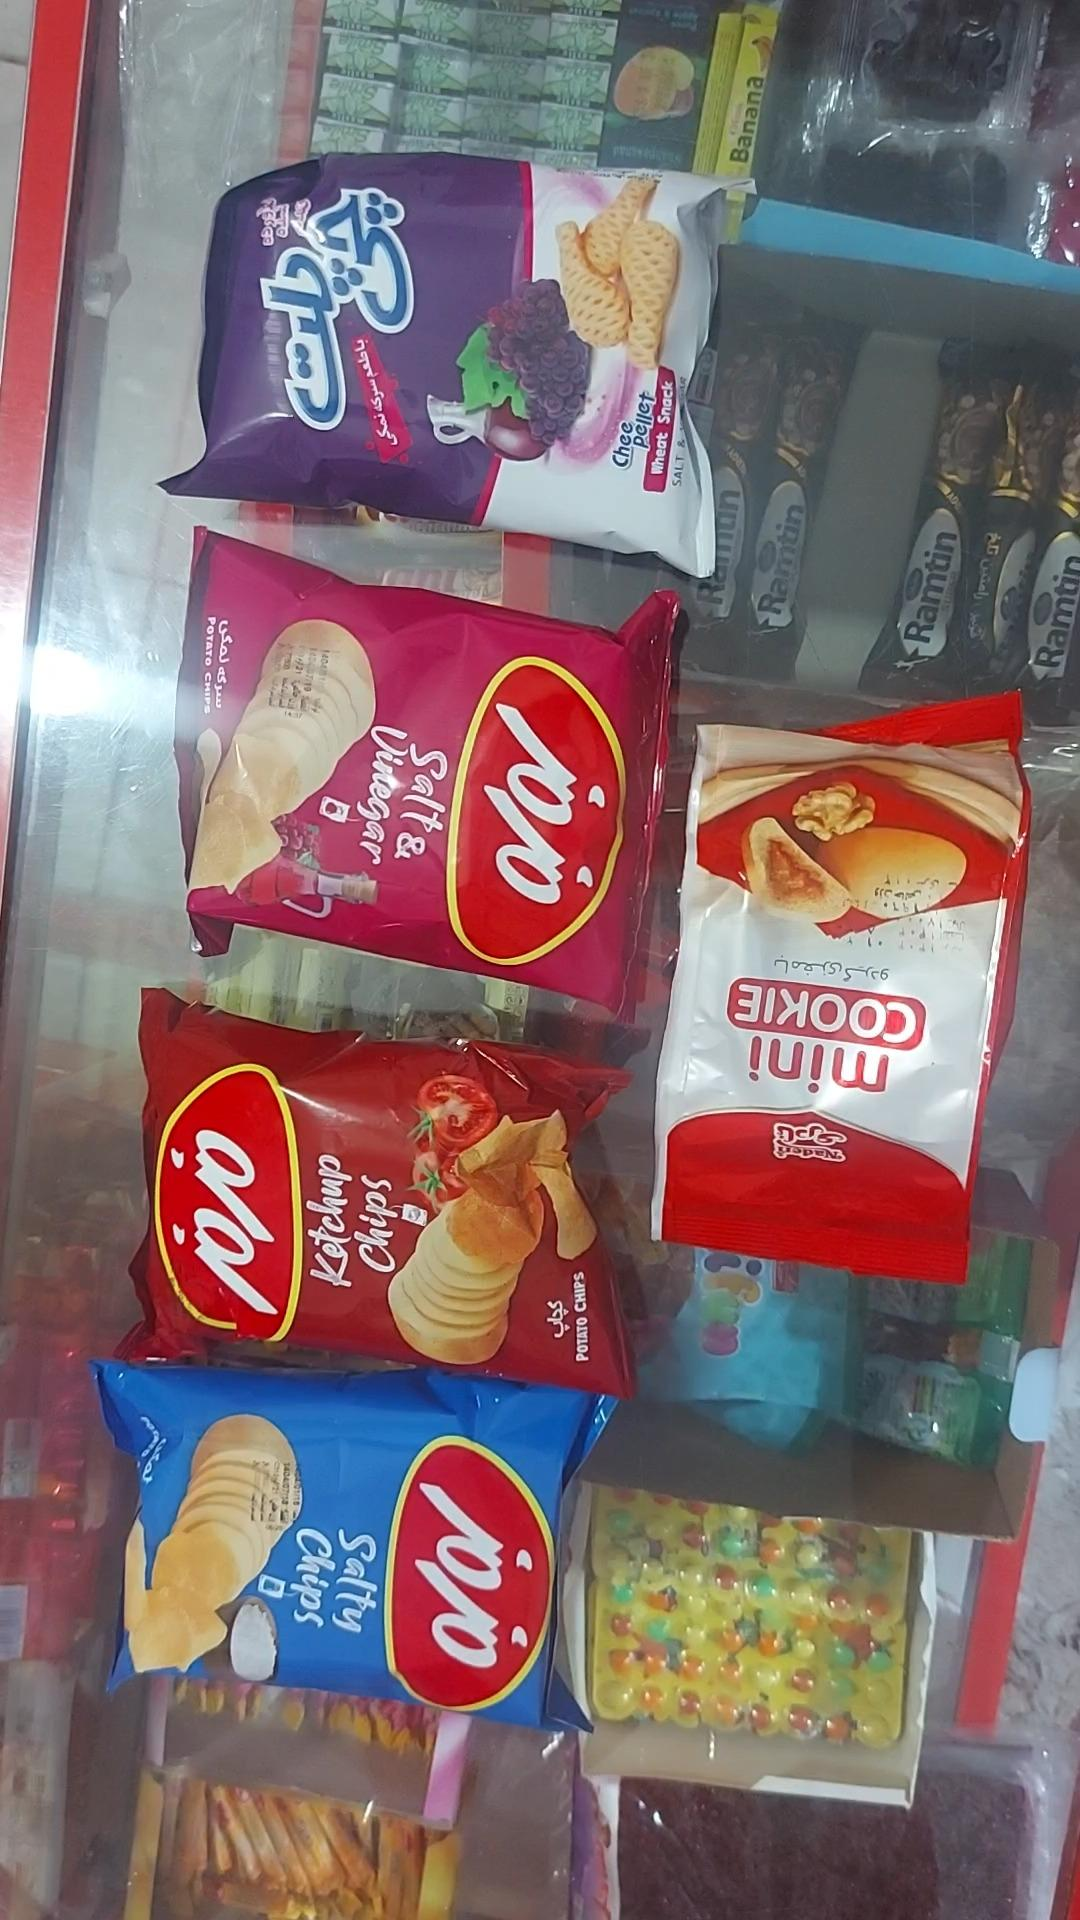Chee pellet vinegar: (158, 153, 727, 580)
Maz Maz ketchup chips: (115, 988, 637, 1400)
Maz Maz salty chips: (90, 1361, 617, 1731)
Maz Maz vinegar chips: (173, 530, 686, 1026)
Naderi mini cookie: (650, 692, 1033, 1287)
